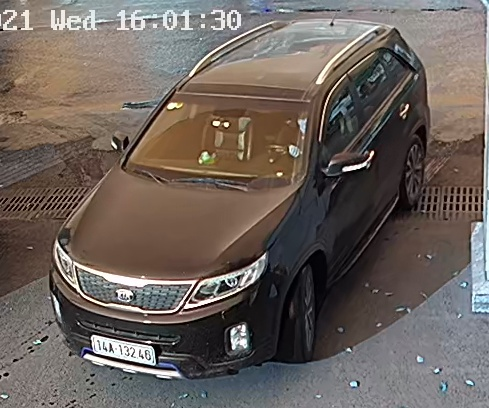vehicle plate: (90, 331, 157, 368)
